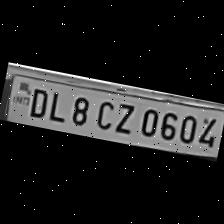0: (134, 103, 162, 139), (174, 110, 198, 144)
4: (194, 112, 220, 148)
6: (155, 108, 180, 142)
8: (63, 92, 93, 128)
C: (89, 95, 116, 131)
D: (22, 83, 50, 120)
L: (43, 86, 70, 124)
Z: (109, 98, 137, 136)
